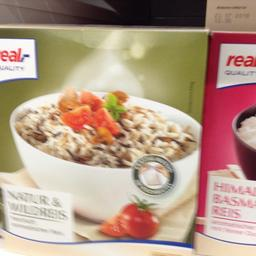rice: (0, 23, 207, 255), (193, 31, 255, 254)
